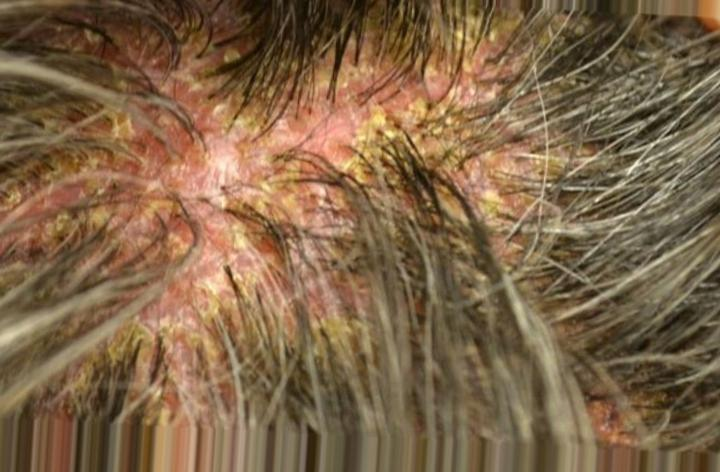Folliculitis: (130, 63, 411, 276)
